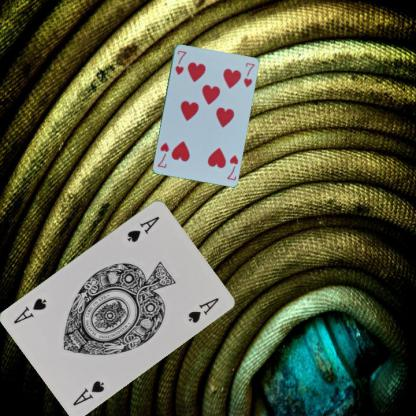7h: (224, 152, 239, 182), (172, 48, 188, 76)
As: (124, 213, 161, 243), (70, 377, 106, 407)
